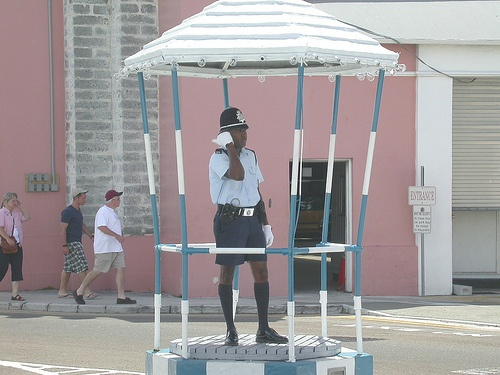head: (219, 104, 250, 150), (100, 188, 126, 212), (1, 189, 24, 213), (68, 187, 91, 211)
person: (204, 113, 276, 343), (72, 187, 132, 304), (58, 186, 93, 300), (0, 191, 31, 299)
